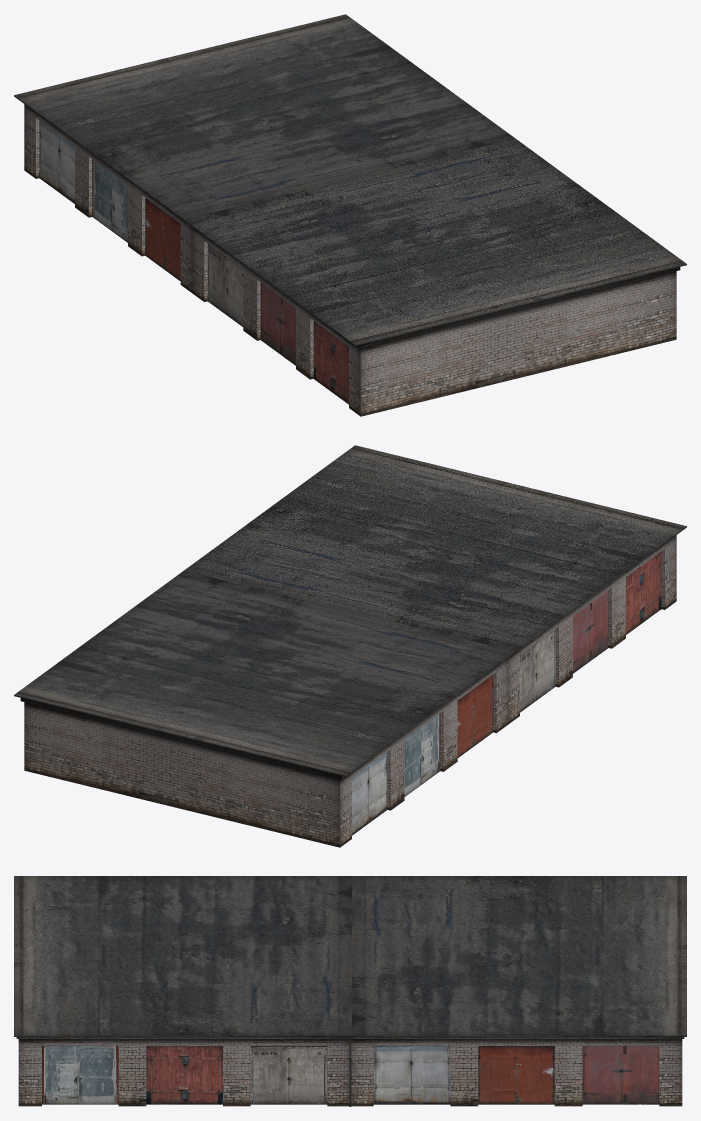
File: hangar.obj
The picture shows the model from 3 angles, top to bottom: view 1: azimuth 30°, elevation 25°; view 2: azimuth 150°, elevation 25°; view 3: azimuth 270°, elevation 25°; orthographic projection.
Parts seen in each view (by area): view 1: Object001_Malla; view 2: Object001_Malla; view 3: Object001_Malla.
Boxes of the visible parts, <box> form: Object001_Malla: <box>14,14,686,416</box>; Object001_Malla: <box>14,445,686,847</box>; Object001_Malla: <box>14,876,686,1106</box>.
Bounding box in the file's own units: 45.31 × 9.85 × 80.68.
